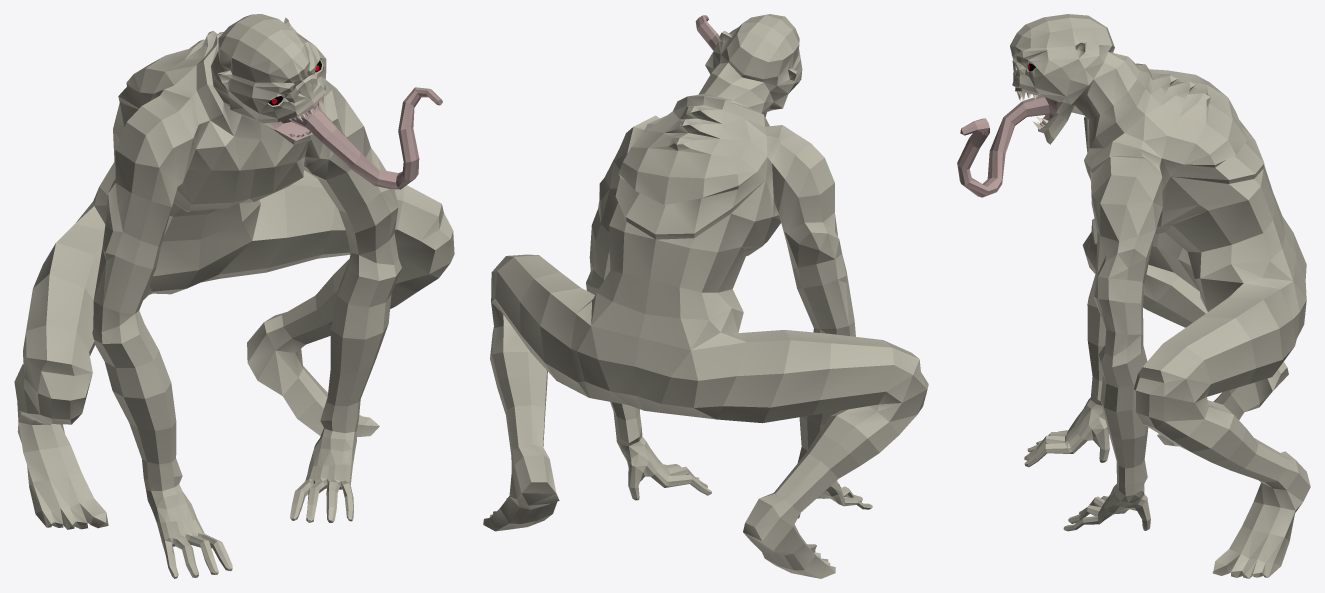
Rendered from Lust.fbx.
3 renders of one model, left to right at view 1: azimuth 30°, elevation 25°; view 2: azimuth 150°, elevation 25°; view 3: azimuth 270°, elevation 25°, orthographic. The views are drawn at different scales.
Visible parts, largest first — view 1: Lust.obj; view 2: Lust.obj; view 3: Lust.obj.
Part boxes in pixels (<box>): Lust.obj: <box>14,14,454,578</box>; Lust.obj: <box>483,14,928,578</box>; Lust.obj: <box>957,14,1310,578</box>.
Size of the model in its own units: 124 by 140 by 94.35.
